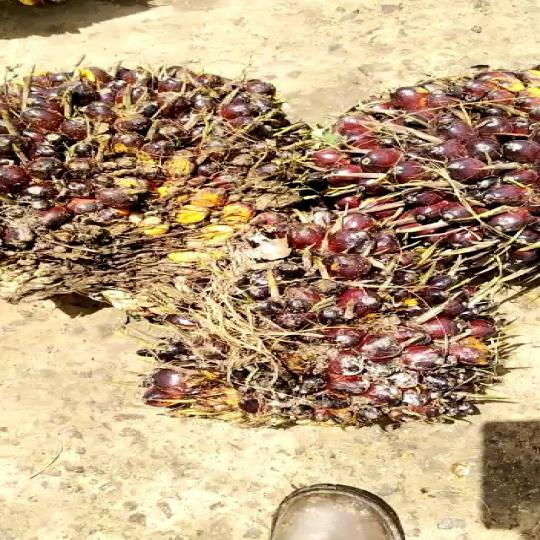kurang masak: (129, 201, 516, 428), (1, 56, 311, 332), (270, 59, 540, 297)
